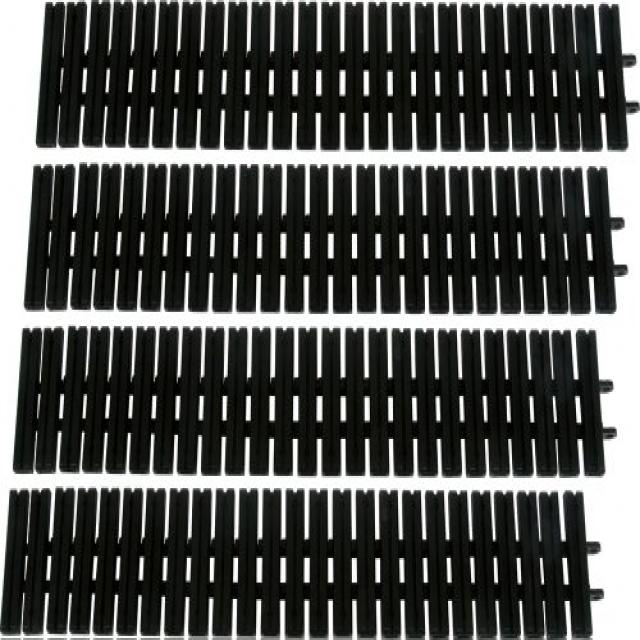Convoyeur: (12, 323, 619, 489), (19, 157, 631, 320), (24, 0, 640, 156), (0, 486, 620, 631)
